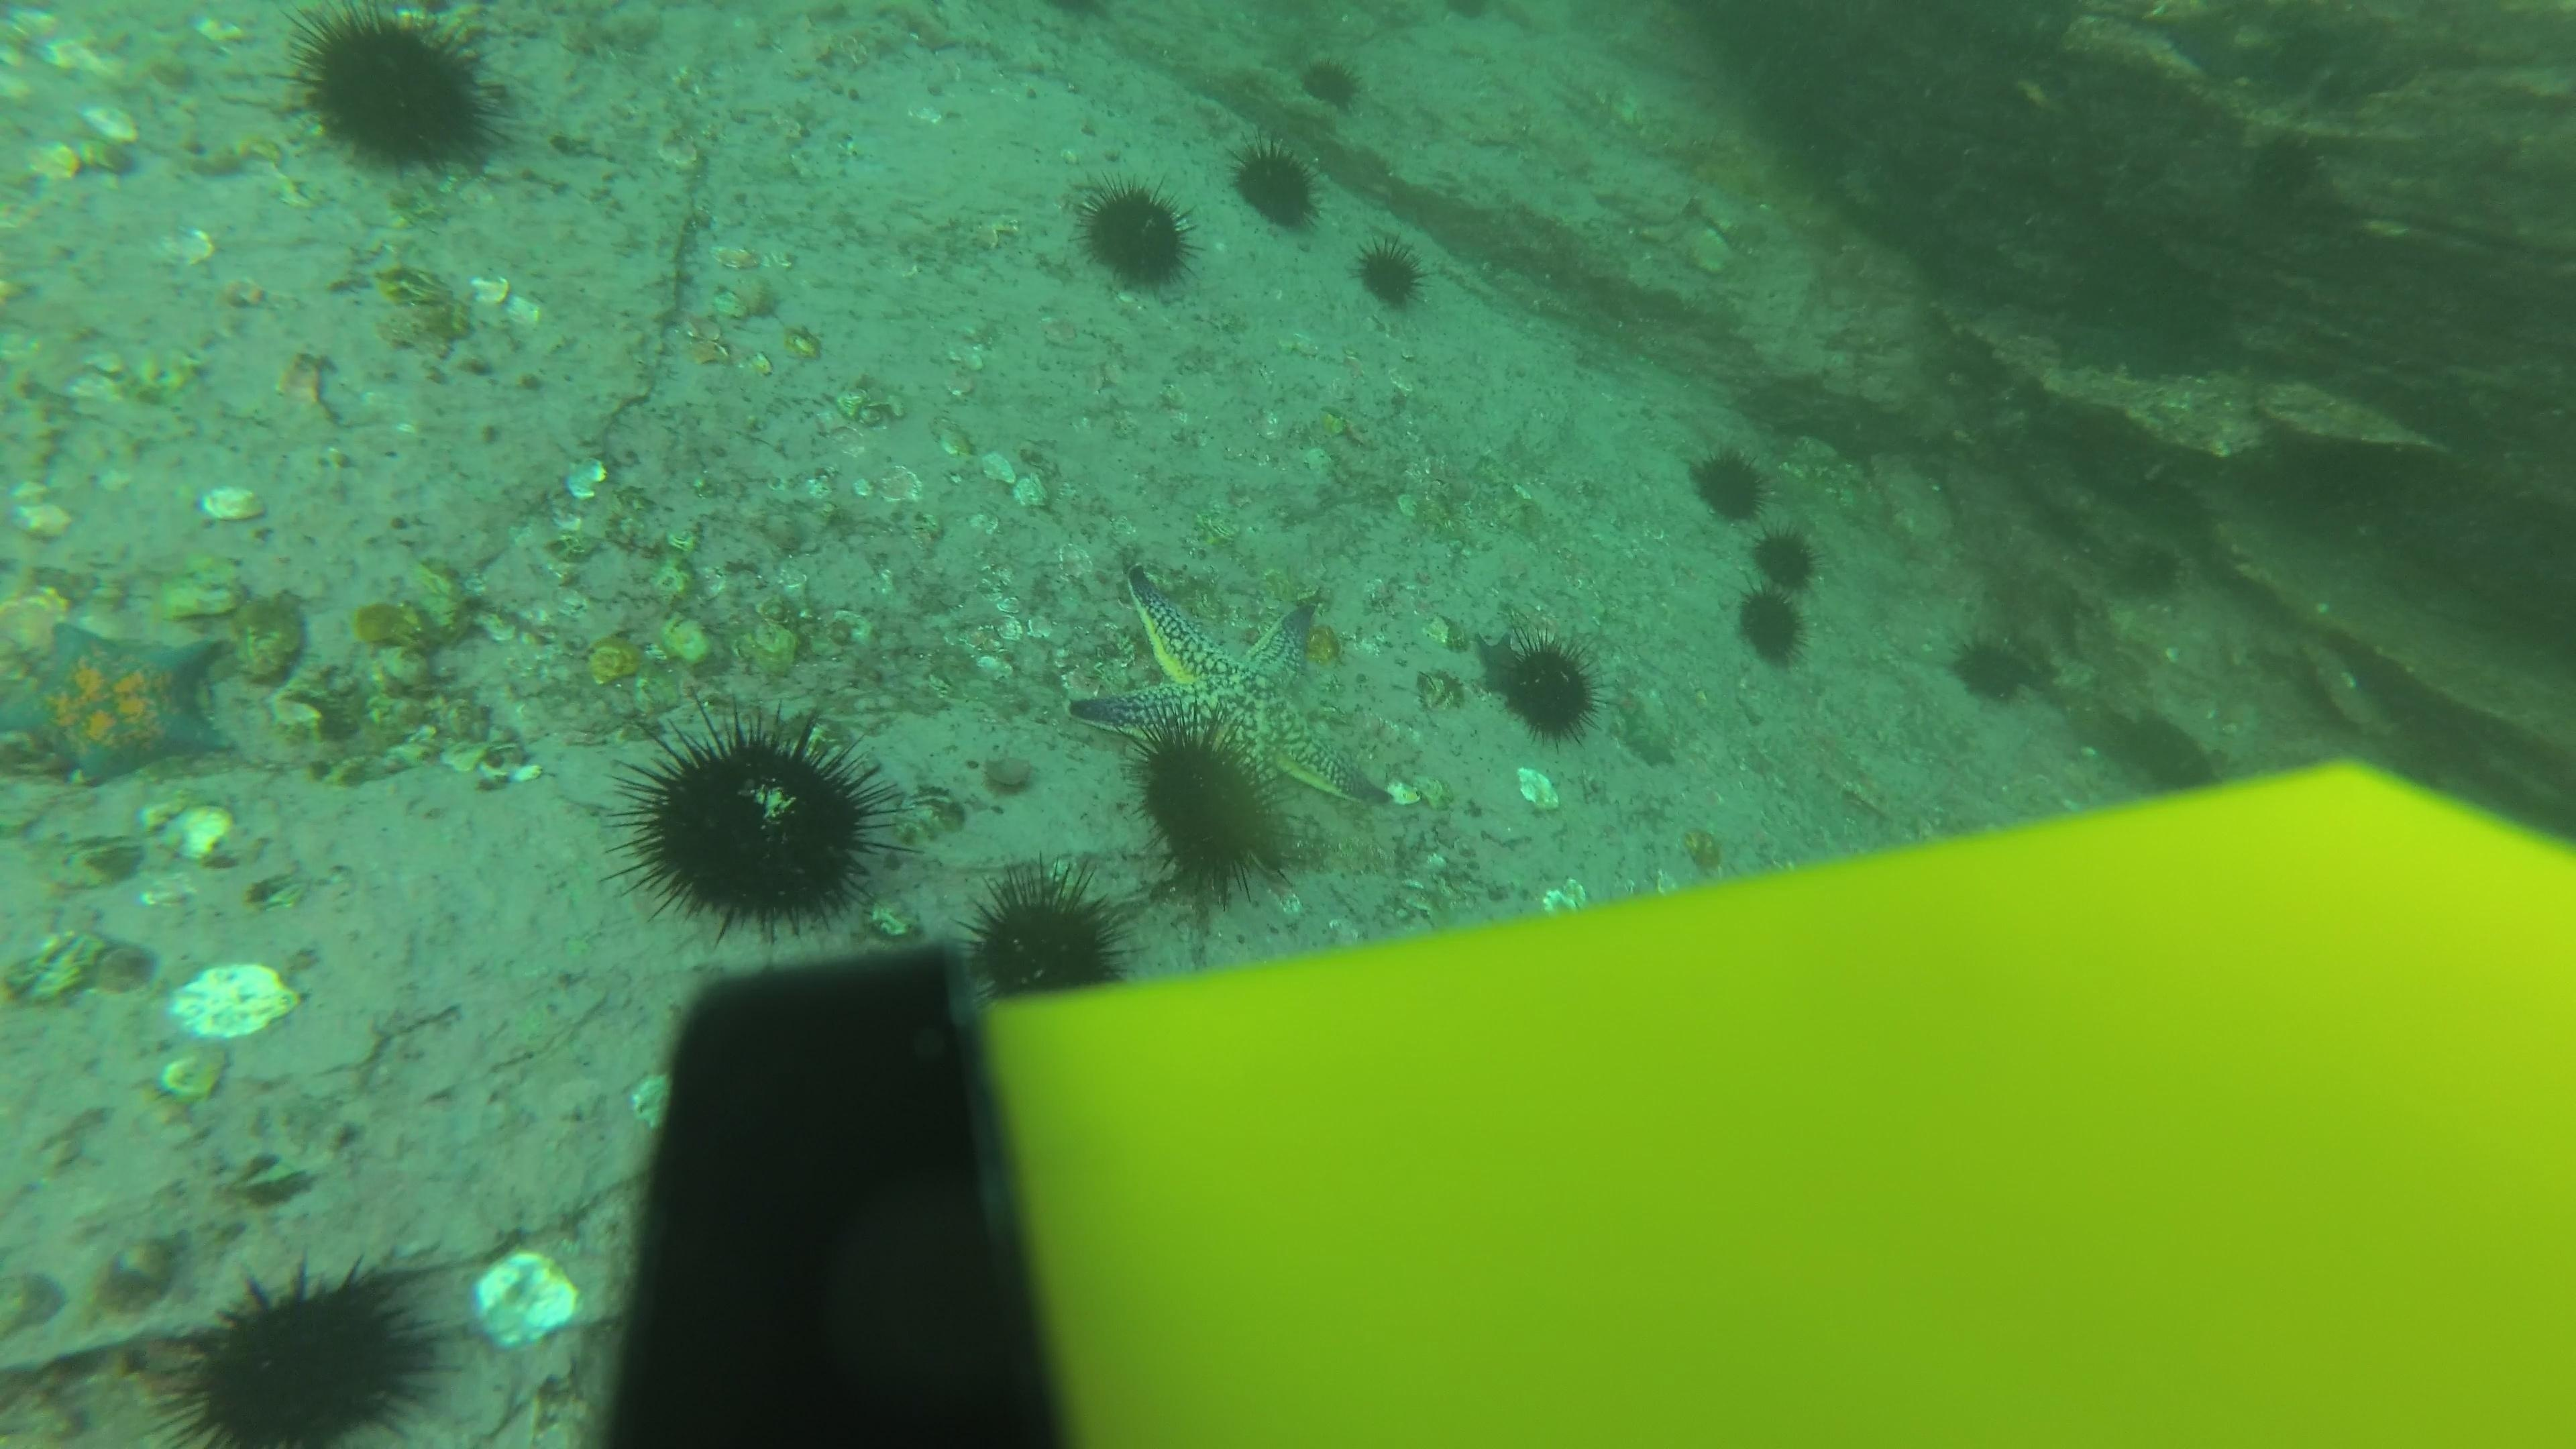echinus: (610, 704, 899, 941), (157, 1247, 451, 1444), (280, 4, 511, 180), (1125, 717, 1299, 902), (962, 867, 1132, 1003), (1070, 175, 1200, 295), (1479, 626, 1605, 745), (1226, 138, 1325, 234), (1946, 623, 2049, 708), (1684, 439, 1775, 524), (1734, 582, 1812, 669), (1350, 234, 1433, 313), (1744, 525, 1821, 600), (2112, 534, 2190, 605), (1295, 50, 1369, 115)
starfish: (1062, 570, 1414, 819), (4, 610, 237, 793)
